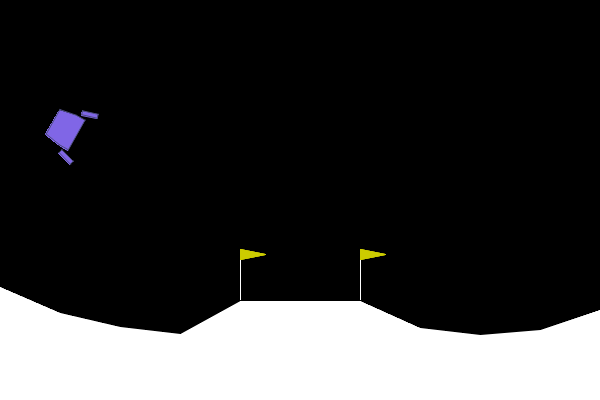lander: (36, 95, 100, 167)
